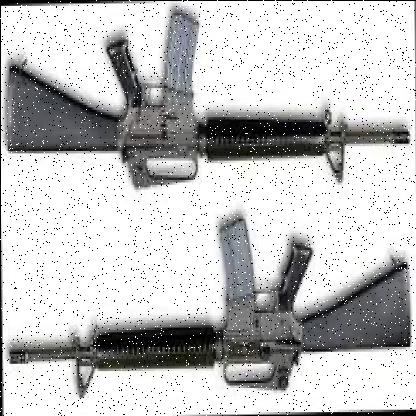rifle: (0, 7, 409, 201), (6, 218, 410, 394)
